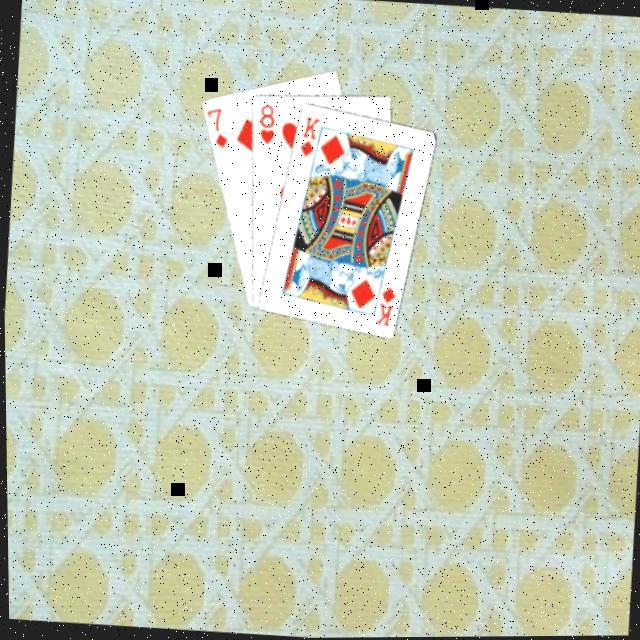7D: (201, 102, 231, 150)
8H: (252, 99, 278, 146)
KD: (294, 111, 322, 159), (369, 281, 397, 328)
